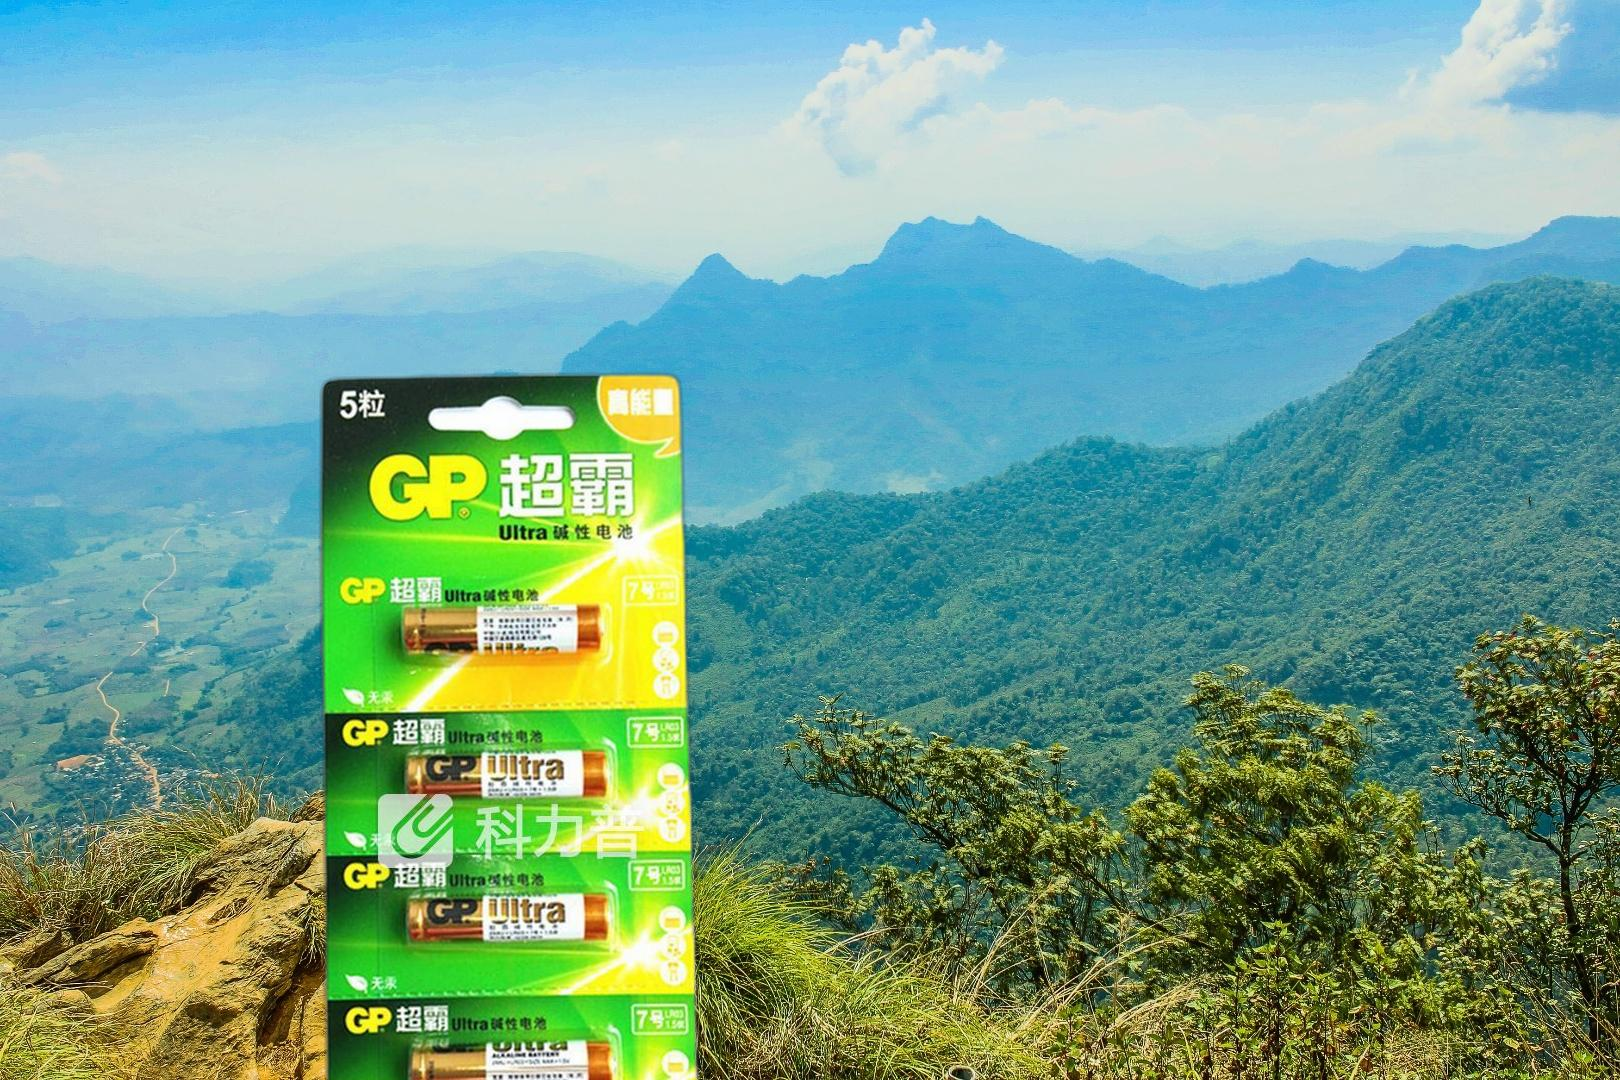battery: (311, 365, 712, 1080)
